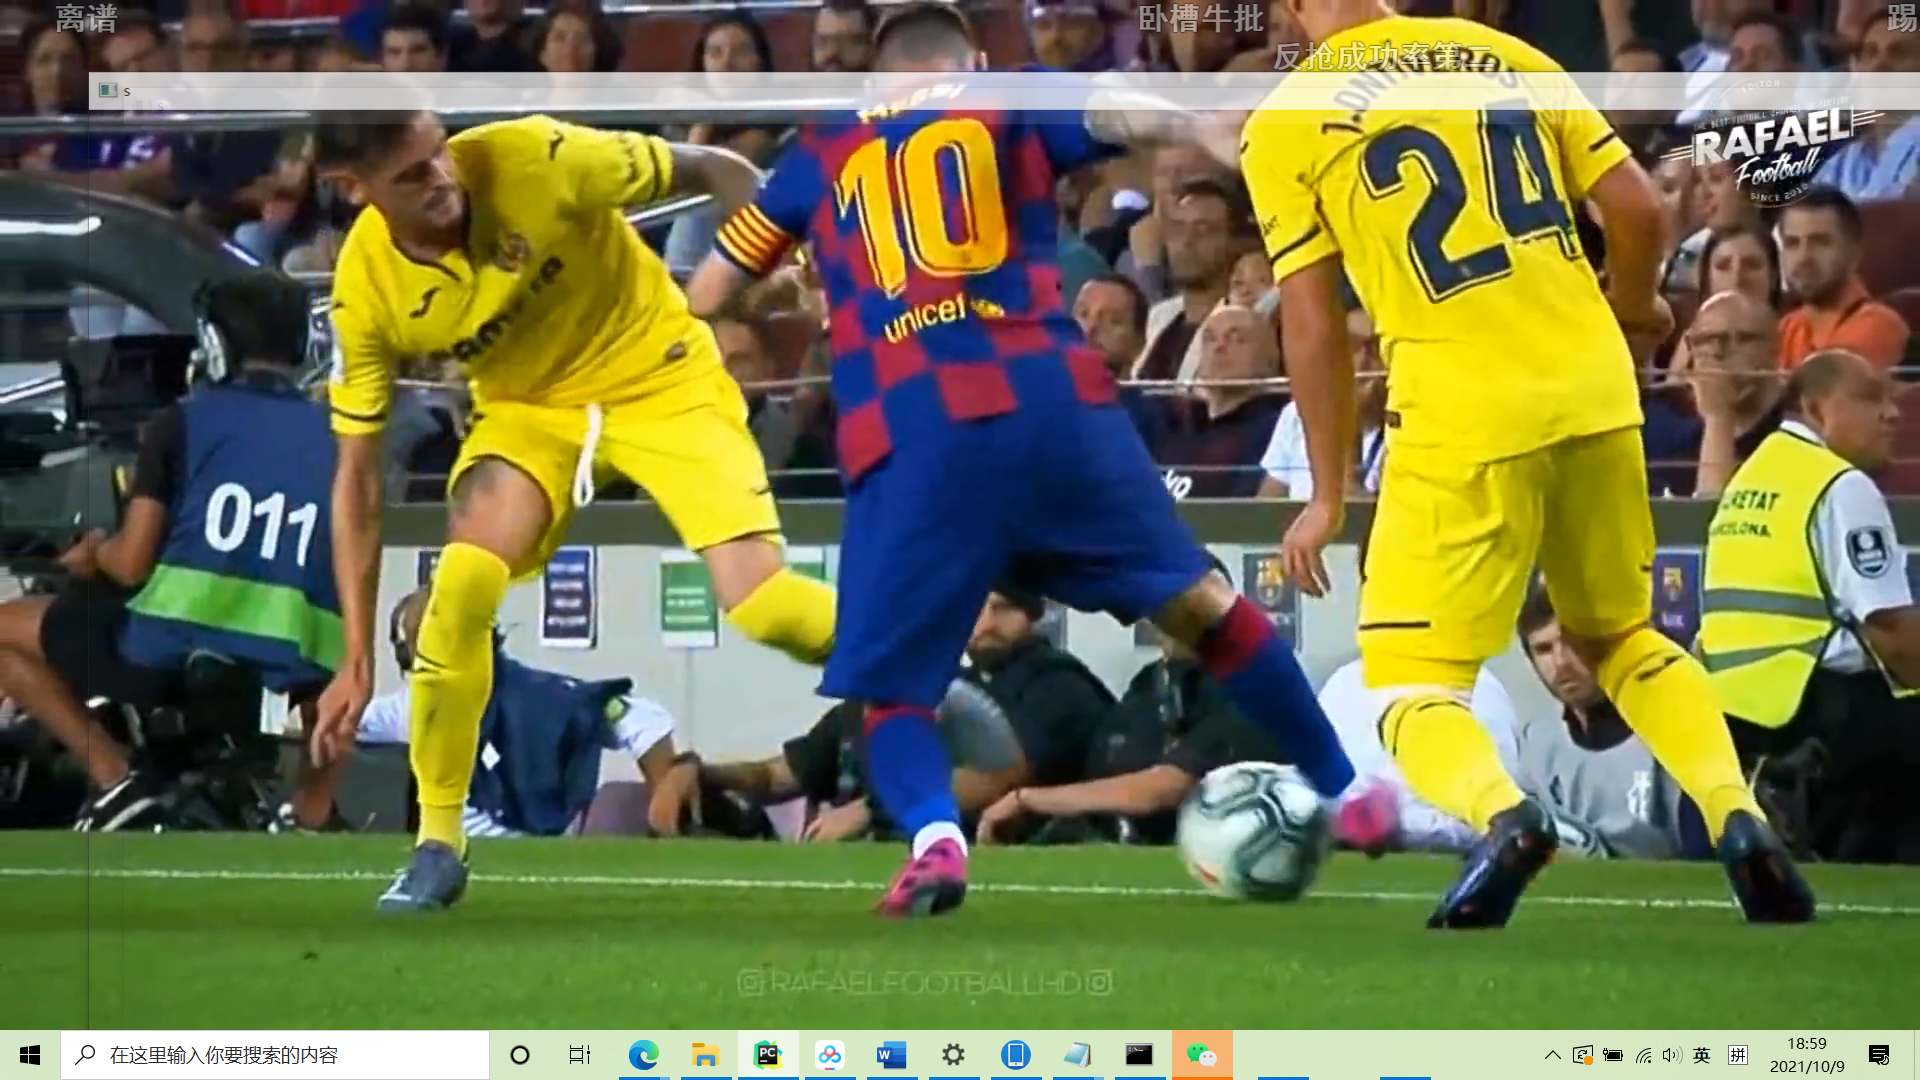ft: (1174, 756, 1324, 910)
